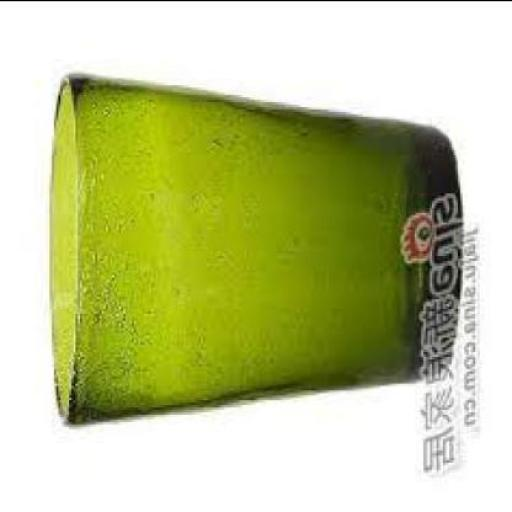glass: (47, 74, 460, 423)
